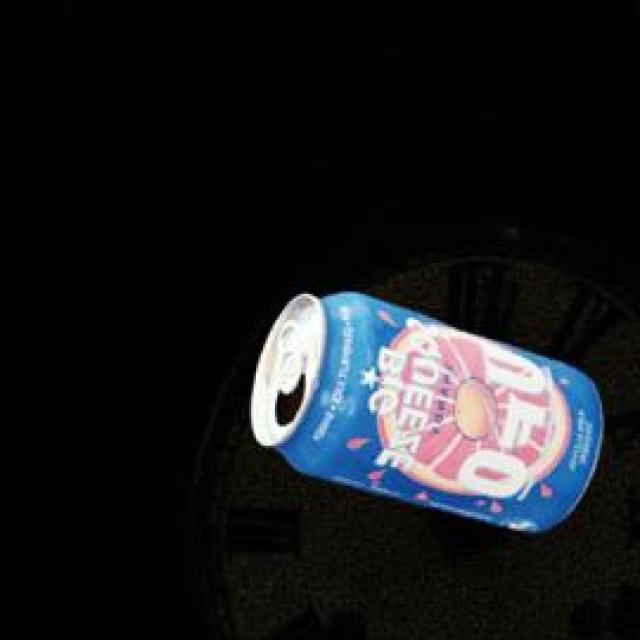logam: (255, 288, 606, 530)
